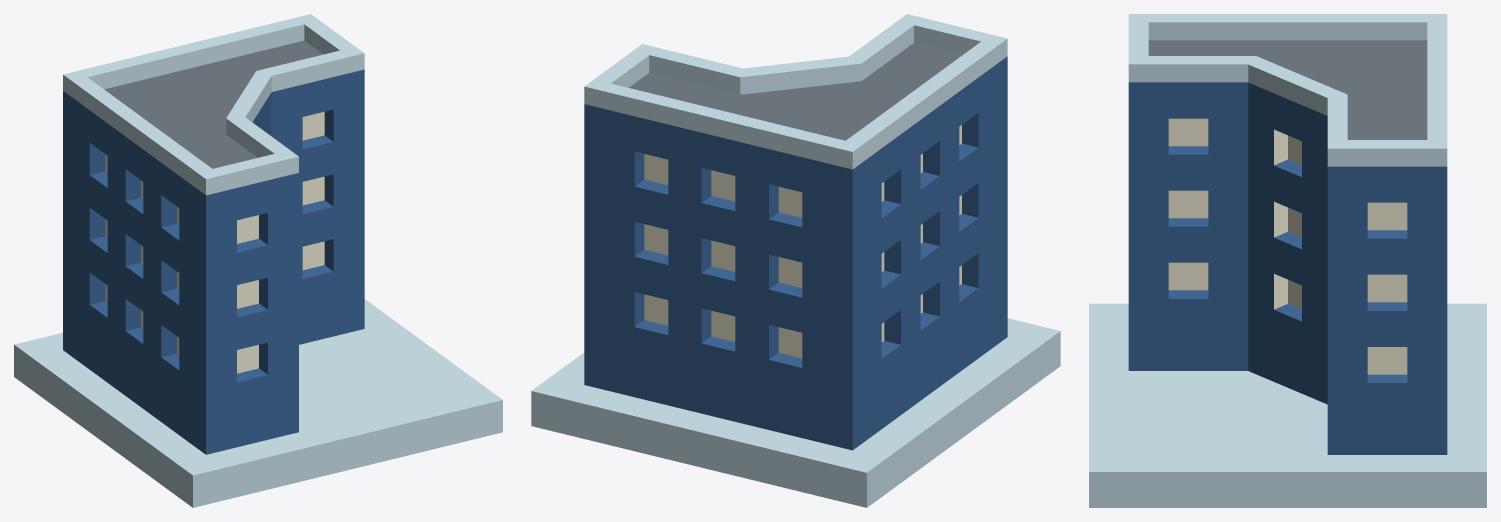
Rendered from Building_8_Base (Blue).obj.
The picture shows the model from 3 angles, left to right: view 1: azimuth 30°, elevation 25°; view 2: azimuth 150°, elevation 25°; view 3: azimuth 270°, elevation 25°; orthographic projection. The views are drawn at different scales.
Visible parts, largest first — view 1: Building_8_Base_(Blue); view 2: Building_8_Base_(Blue); view 3: Building_8_Base_(Blue).
Part boxes in pixels (x1,y1,x2,y2): Building_8_Base_(Blue): (14,14,502,507); Building_8_Base_(Blue): (531,14,1060,507); Building_8_Base_(Blue): (1089,14,1486,507).
Bounding box in the file's own units: 2 × 1.9 × 2.
